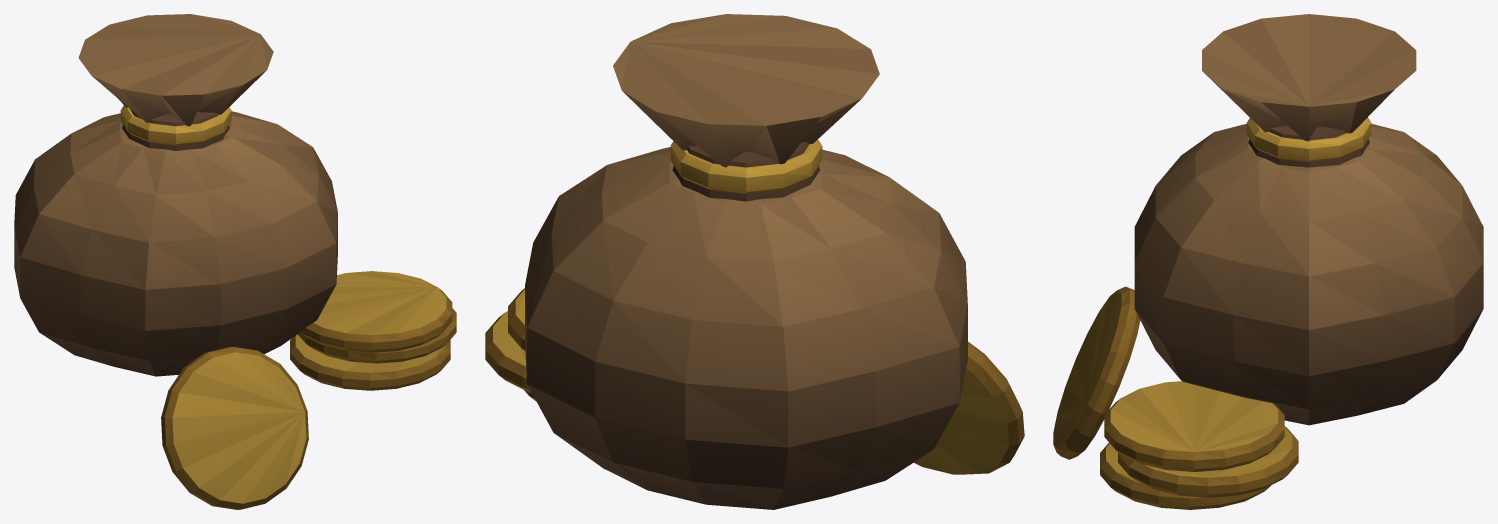
Rendered from purse.glb.
3 renders of one model, left to right at view 1: azimuth 30°, elevation 25°; view 2: azimuth 150°, elevation 25°; view 3: azimuth 270°, elevation 25°, orthographic. The views are drawn at different scales.
Visible parts, largest first — view 1: purse; view 2: purse; view 3: purse.
Part boxes in pixels (left/top/right/bottom): purse: left=14, top=14, right=456, bottom=509; purse: left=485, top=14, right=1024, bottom=509; purse: left=1053, top=14, right=1483, bottom=509.
Size of the model in its own units: 0.5406 by 0.4921 by 0.4697.
